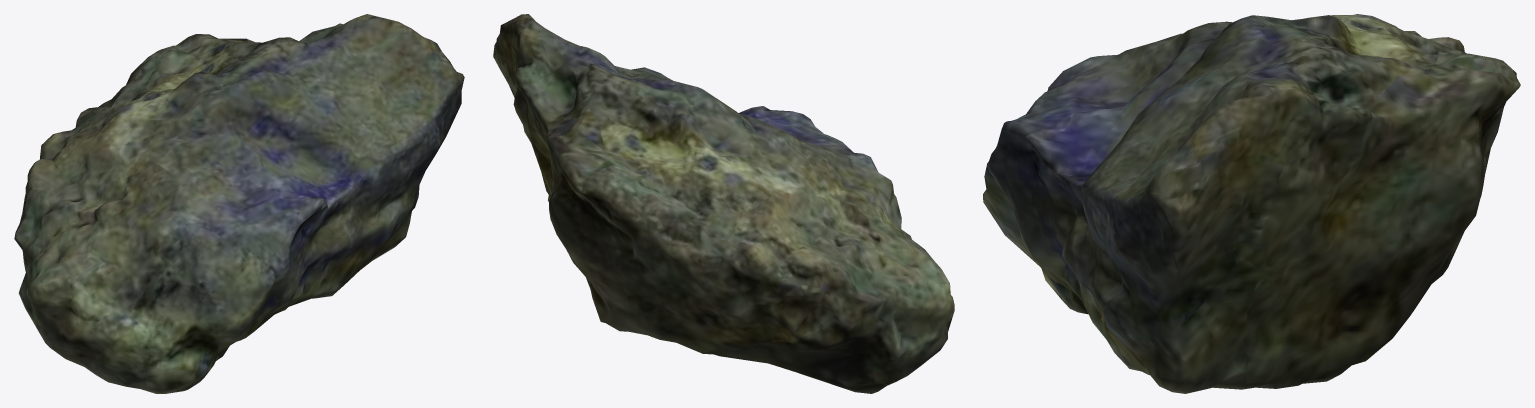
Rendered from hall.glb.
3 renders of one model, left to right at view 1: azimuth 30°, elevation 25°; view 2: azimuth 150°, elevation 25°; view 3: azimuth 270°, elevation 25°, orthographic. The views are drawn at different scales.
Size of the model in its own units: 0.5661 by 0.34 by 0.399.
Materials: 1 (1 with a texture image).
